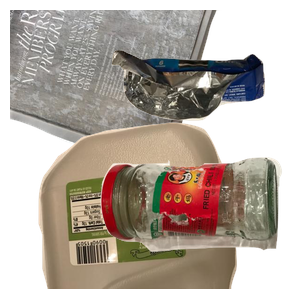glass: (98, 155, 300, 300)
paper: (10, 10, 222, 176)
plastic: (36, 120, 265, 300)
trash: (109, 47, 300, 160)
